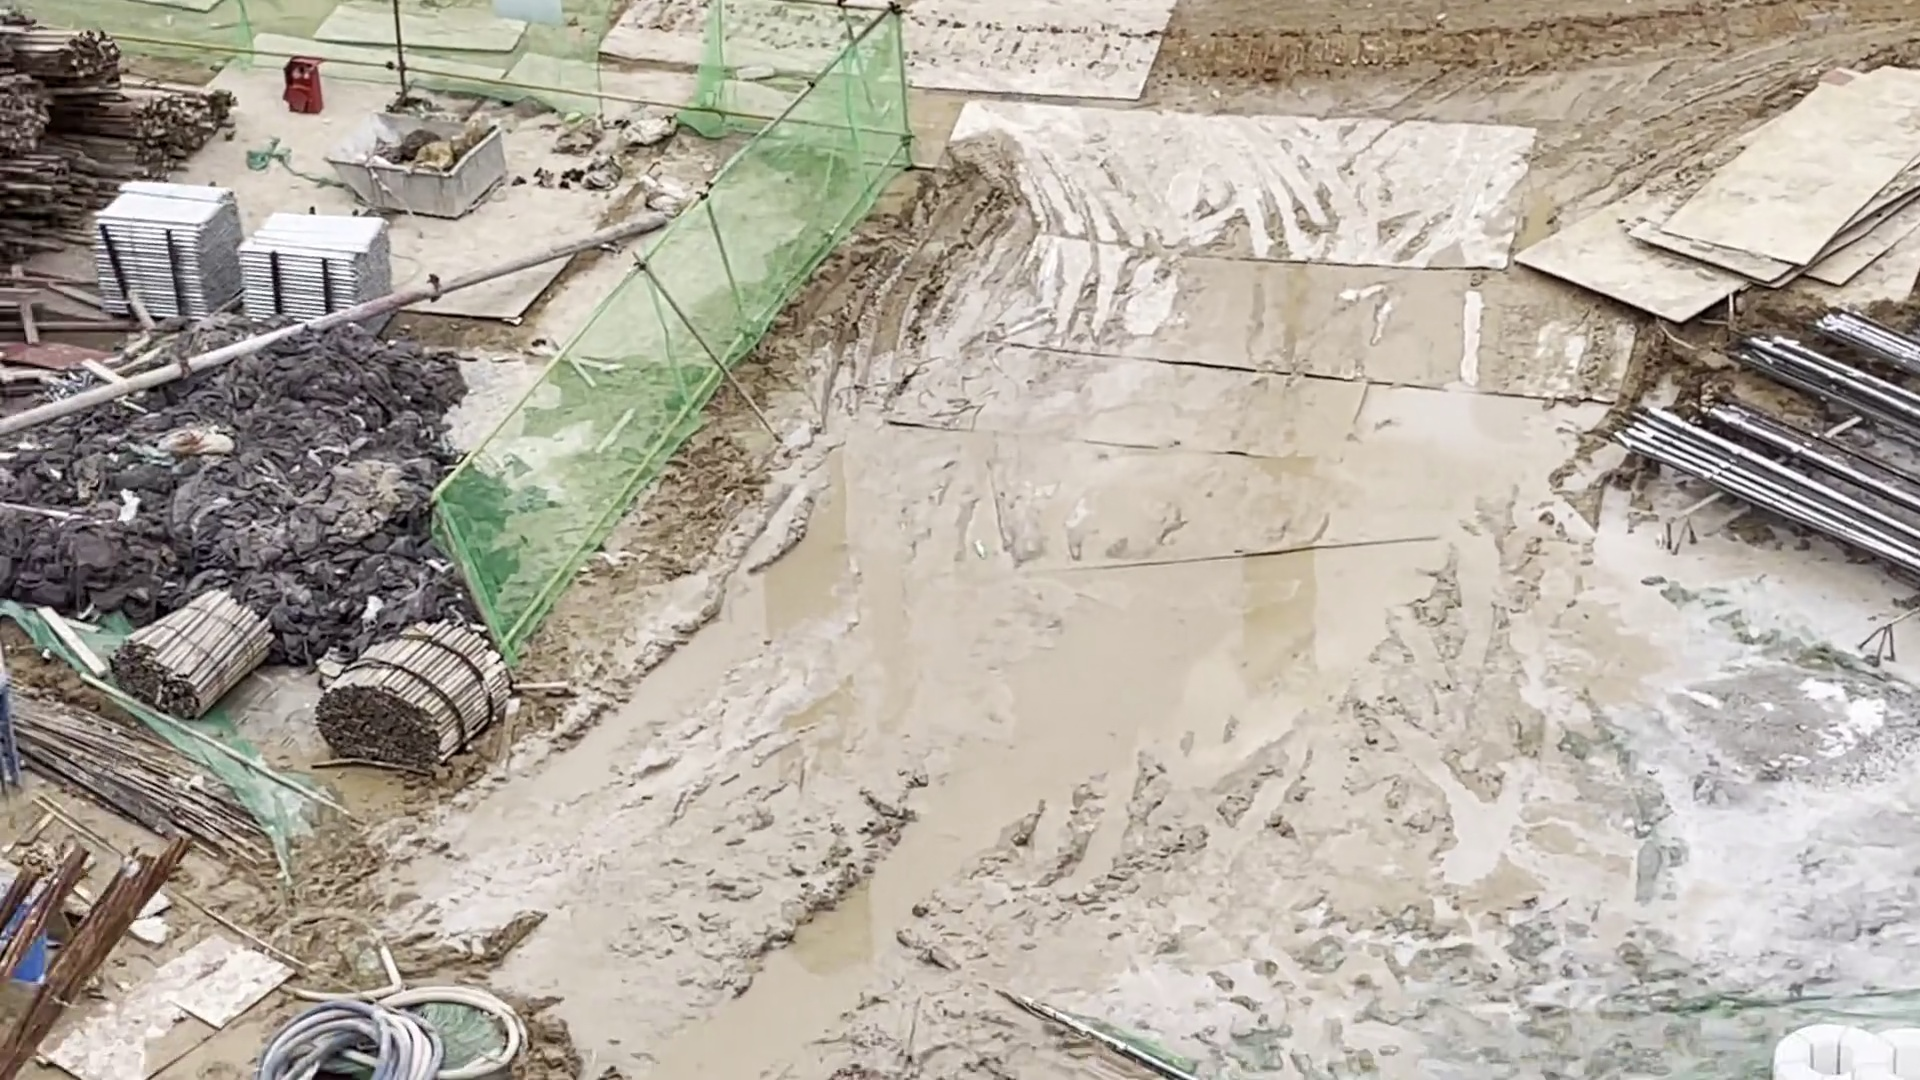hopper: (323, 108, 504, 219)
wood: (314, 622, 516, 775), (86, 179, 244, 342), (103, 589, 280, 717), (237, 200, 393, 343)
